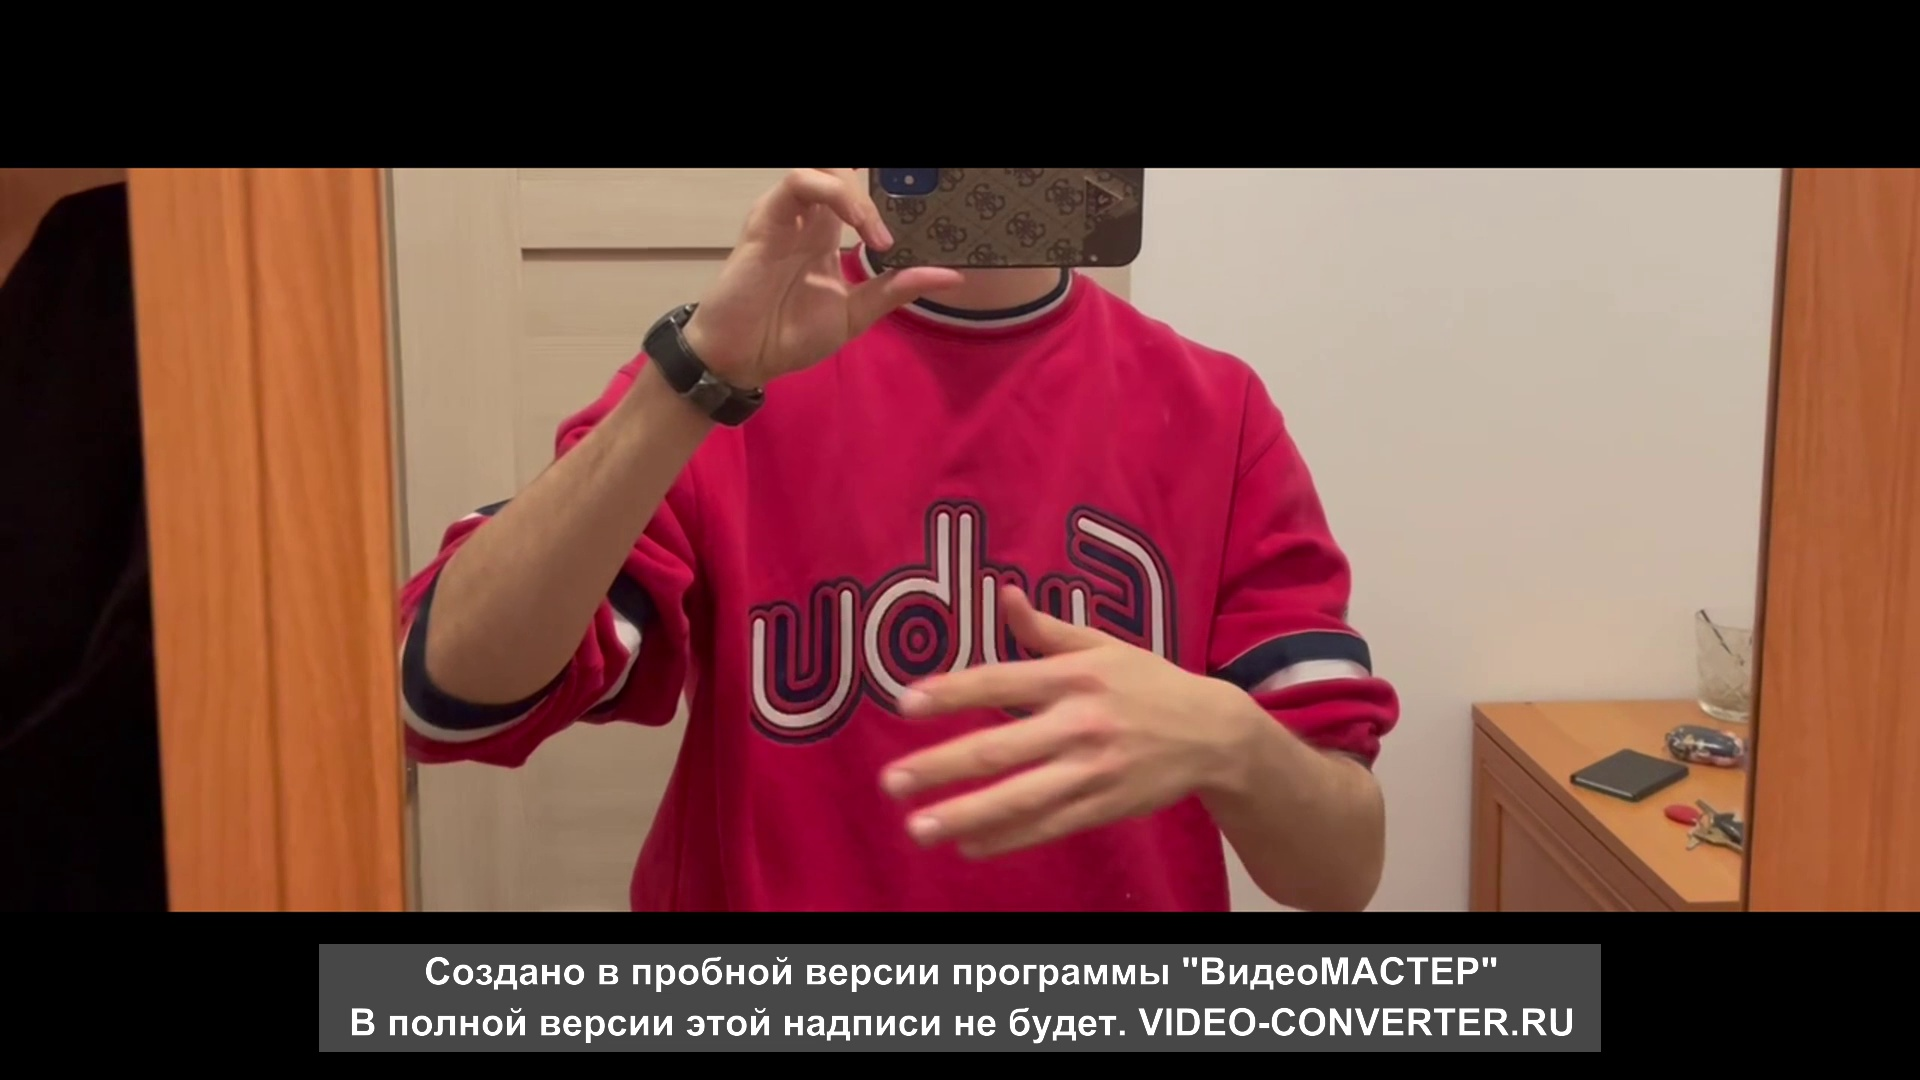Кисть: (884, 587, 1207, 857)
